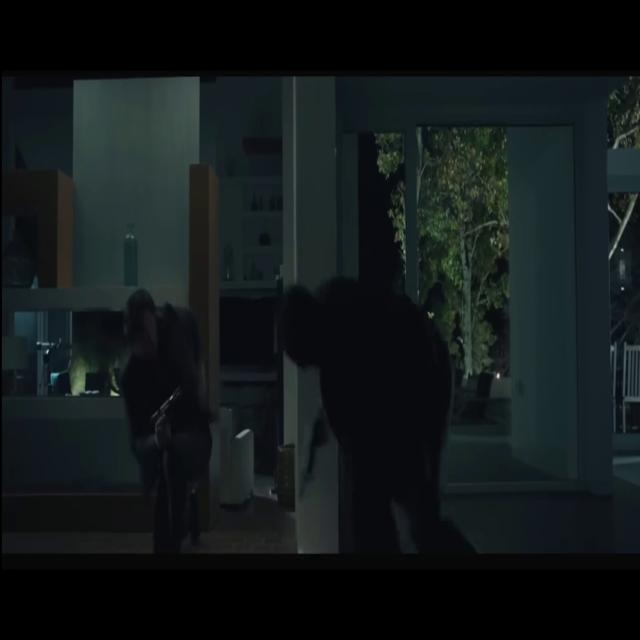weapons: (138, 369, 194, 463)
